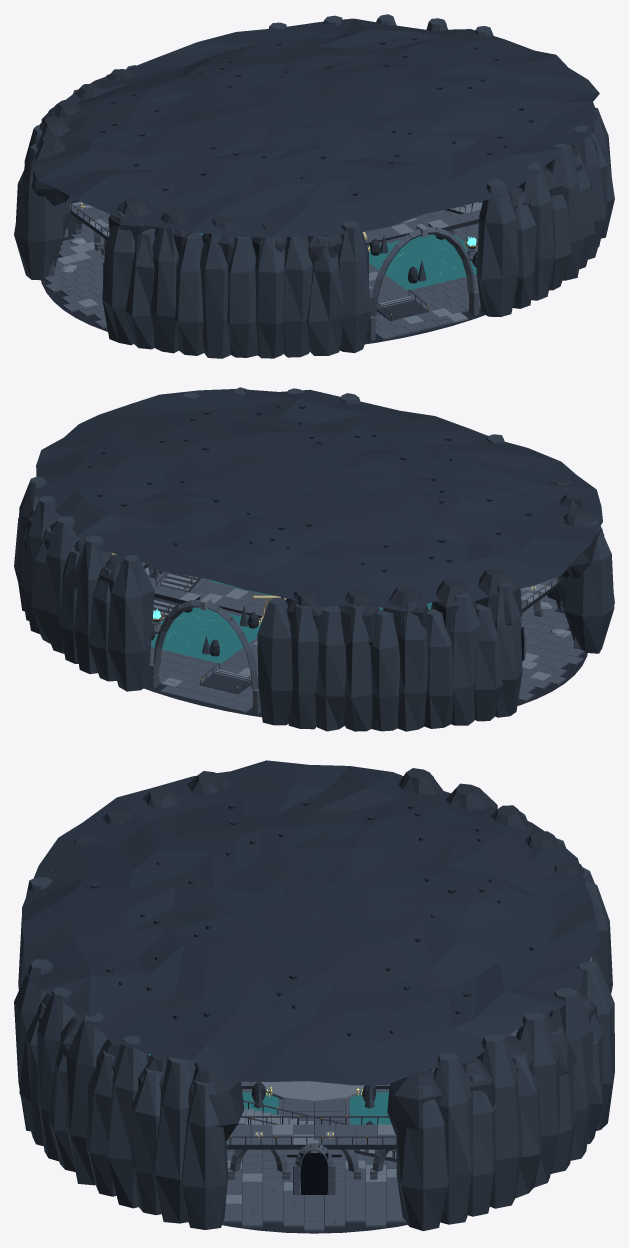
The model's file is cellar-room-02.glb.
3 renders of one model, top to bottom at view 1: azimuth 30°, elevation 25°; view 2: azimuth 150°, elevation 25°; view 3: azimuth 270°, elevation 25°, orthographic. The views are drawn at different scales.
Parts seen in each view (by area): view 1: Cellar 2 ceiling, Cellar 2 rock, Cellar 2 stone_dark, Cellar 2 stone_floor, Cellar 2 stone, Cellar 2 water, Cellar 2 stone_light, Cellar 2 mortar, Cellar 2 stone_floor_light; view 2: Cellar 2 ceiling, Cellar 2 rock, Cellar 2 stone_dark, Cellar 2 stone_floor, Cellar 2 stone, Cellar 2 water, Cellar 2 stone_light, Cellar 2 mortar, Cellar 2 stone_floor_light; view 3: Cellar 2 ceiling, Cellar 2 rock, Cellar 2 stone_dark, Cellar 2 stone_floor, Cellar 2 stone, Cellar 2 stone_light, Cellar 2 mortar, Cellar 2 water, Cellar 2 iron, Cellar 2 void, Cellar 2 stone_floor_light.
Boxes of the visible parts, box(x1,y1,x2,y2) form: Cellar 2 ceiling: box(31, 18, 599, 237); Cellar 2 rock: box(14, 14, 614, 358); Cellar 2 stone_dark: box(21, 69, 597, 320); Cellar 2 stone_floor: box(44, 210, 480, 340); Cellar 2 stone: box(48, 201, 482, 340); Cellar 2 water: box(198, 232, 476, 290); Cellar 2 stone_light: box(60, 201, 482, 320); Cellar 2 mortar: box(41, 237, 485, 344); Cellar 2 stone_floor_light: box(57, 241, 467, 324); Cellar 2 ceiling: box(32, 389, 602, 611); Cellar 2 rock: box(14, 387, 614, 731); Cellar 2 stone_dark: box(26, 446, 602, 693); Cellar 2 stone_floor: box(147, 566, 584, 713); Cellar 2 stone: box(115, 554, 580, 713); Cellar 2 water: box(151, 580, 432, 663); Cellar 2 stone_light: box(152, 573, 565, 693); Cellar 2 mortar: box(143, 603, 587, 717); Cellar 2 stone_floor_light: box(145, 568, 570, 686); Cellar 2 ceiling: box(22, 760, 600, 1085); Cellar 2 rock: box(14, 775, 614, 1230); Cellar 2 stone_dark: box(38, 768, 597, 1162); Cellar 2 stone_floor: box(223, 1029, 518, 1231); Cellar 2 stone: box(194, 1063, 434, 1194); Cellar 2 stone_light: box(238, 957, 591, 1186); Cellar 2 mortar: box(222, 1034, 510, 1233); Cellar 2 water: box(149, 1053, 391, 1124); Cellar 2 iron: box(229, 1100, 396, 1158); Cellar 2 void: box(300, 1152, 328, 1194); Cellar 2 stone_floor_light: box(225, 1155, 396, 1203).
Bounding box in the file's own units: 95.04 × 25.16 × 75.87.
